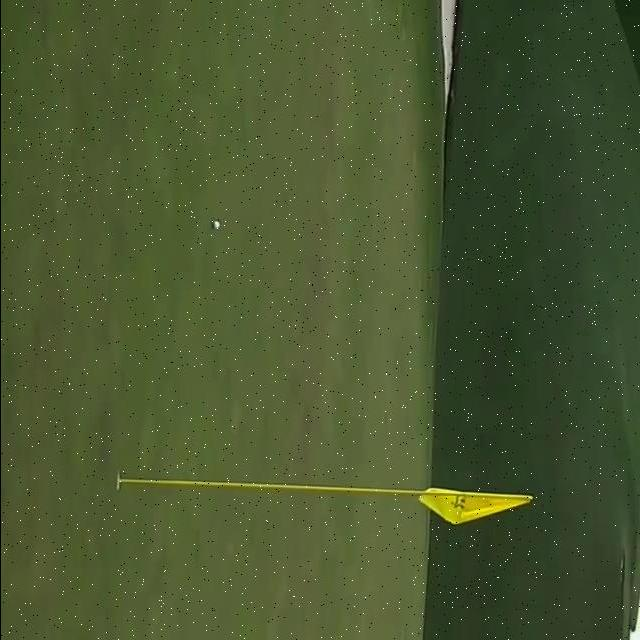golf ball: (212, 221, 219, 229)
